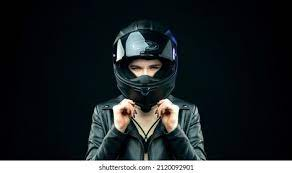helmets: (105, 16, 189, 111)
